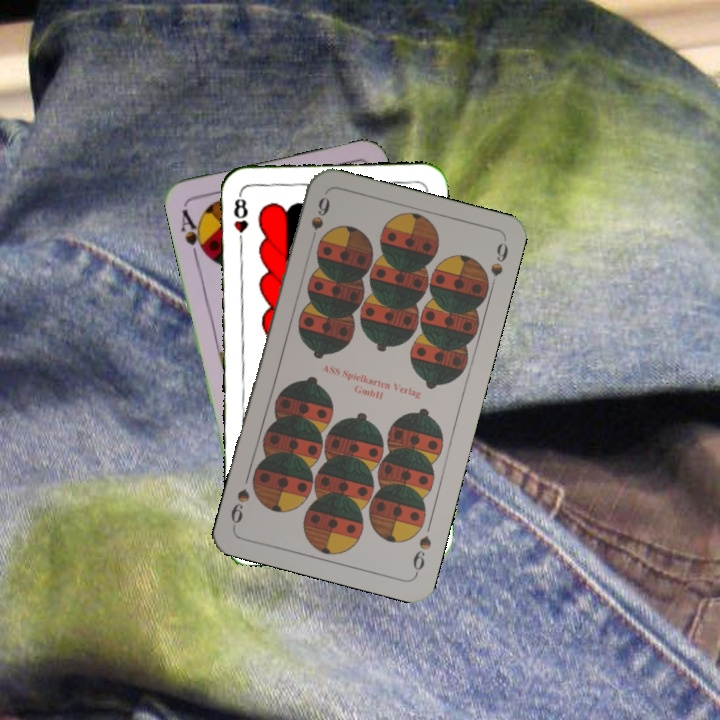H8: (229, 190, 250, 249)
S9: (306, 193, 333, 249), (408, 531, 434, 577)
SA: (176, 205, 210, 262)
